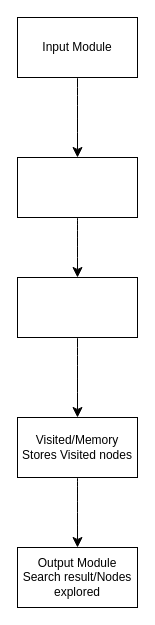
This 155x625 diagram has some shape labels left out. Each missing label, with the box of its shape:
Graph Management 26-node A-Z graph: (16, 156, 138, 218)
Search Engine BFS/DFS: (16, 276, 138, 338)
